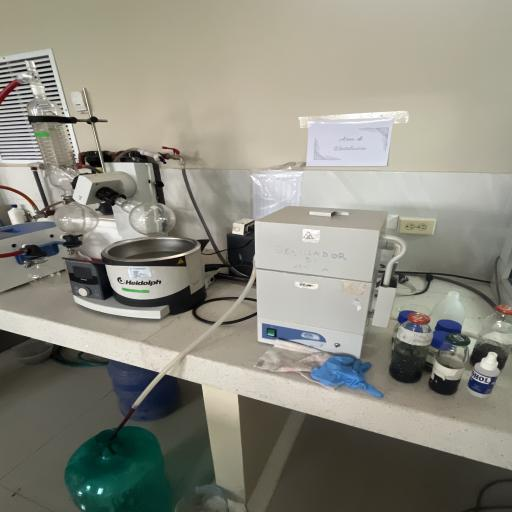Sistema_Rotaevaporacion: (1, 56, 230, 330)
